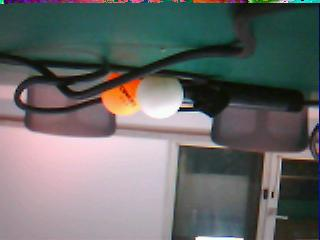oball: (99, 74, 140, 116)
